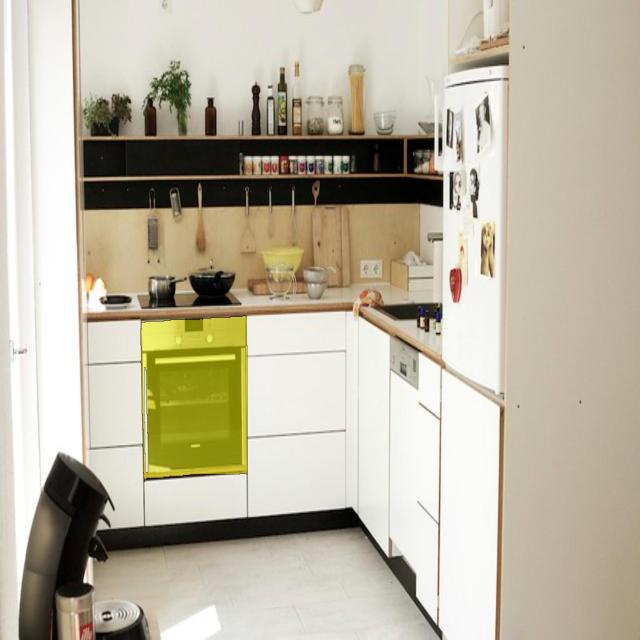dishwasher: (391, 334, 418, 596)
